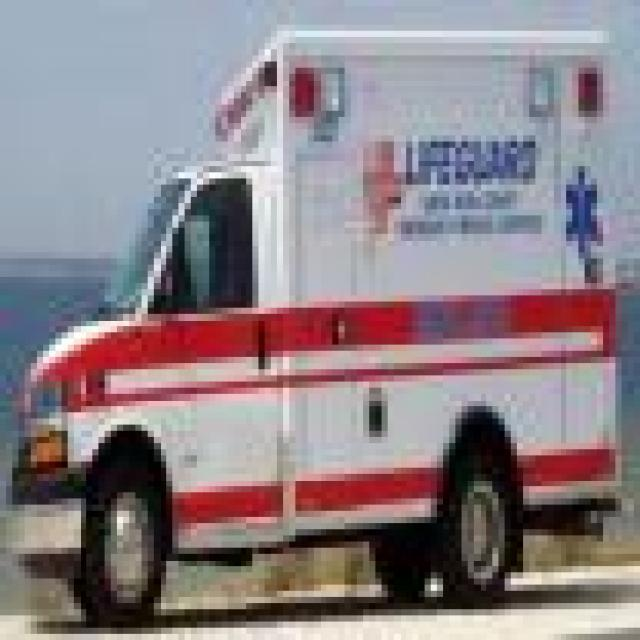emergency-vehicle: (19, 24, 622, 622)
